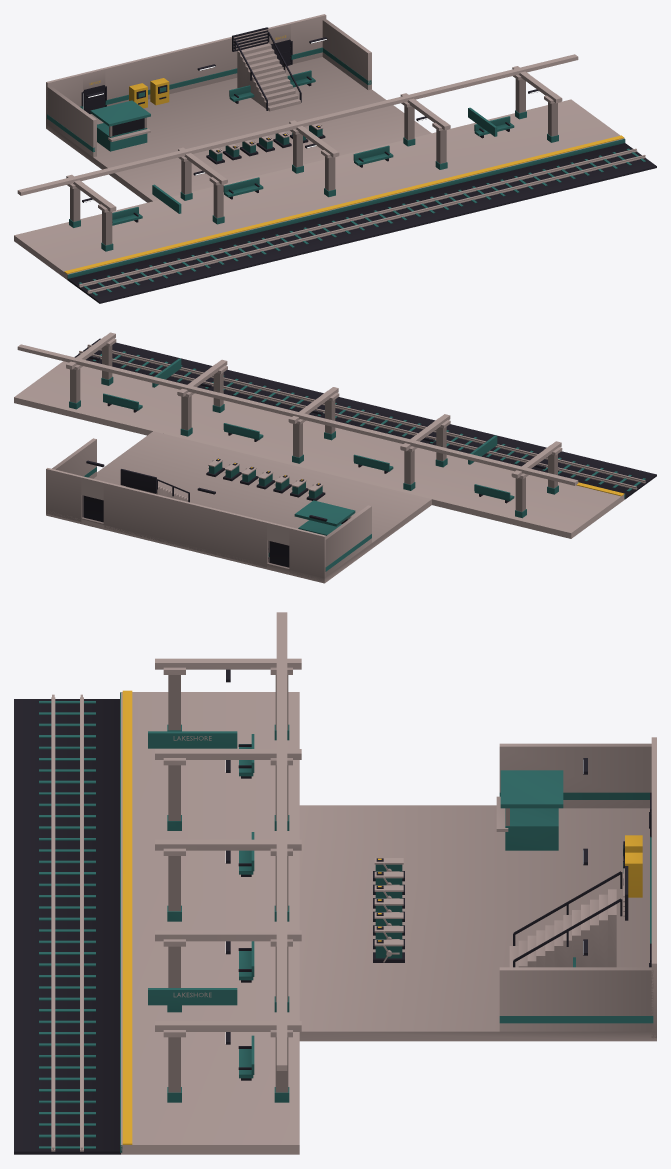
3 views of the same model, one above another, from view 1: azimuth 30°, elevation 25°; view 2: azimuth 150°, elevation 25°; view 3: azimuth 270°, elevation 25° (orthographic). The views are drawn at different scales.
Visible parts, largest first — view 1: body_pal_sidewalk, body_pal_uiDark, body_pal_backpackTeal, roof_pal_sidewalk, body_pal_schoolBusYellow, maintenanceDoorA_pal_uiDark; view 2: body_pal_sidewalk, body_pal_uiDark, body_pal_backpackTeal, roof_pal_sidewalk, maintenanceDoorB_pal_uiDark, maintenanceDoorA_pal_uiDark; view 3: body_pal_sidewalk, body_pal_uiDark, body_pal_backpackTeal, roof_pal_sidewalk, body_pal_schoolBusYellow.
Part boxes in pixels (<box>): body_pal_sidewalk: <box>14,14,645,293</box>; body_pal_uiDark: <box>67,27,656,303</box>; body_pal_backpackTeal: <box>47,47,645,295</box>; roof_pal_sidewalk: <box>17,54,578,211</box>; body_pal_schoolBusYellow: <box>64,35,624,274</box>; maintenanceDoorA_pal_uiDark: <box>83,85,104,113</box>; body_pal_sidewalk: <box>14,336,645,583</box>; body_pal_uiDark: <box>74,338,656,561</box>; body_pal_backpackTeal: <box>69,351,645,571</box>; roof_pal_sidewalk: <box>17,332,578,485</box>; maintenanceDoorB_pal_uiDark: <box>83,495,103,522</box>; maintenanceDoorA_pal_uiDark: <box>269,541,289,567</box>; body_pal_sidewalk: <box>51,667,656,1154</box>; body_pal_uiDark: <box>14,669,651,1154</box>; body_pal_backpackTeal: <box>39,692,653,1152</box>; roof_pal_sidewalk: <box>155,612,301,1070</box>; body_pal_schoolBusYellow: <box>122,690,642,1144</box>.
Size of the model in its own units: 60 by 5.75 by 36.
